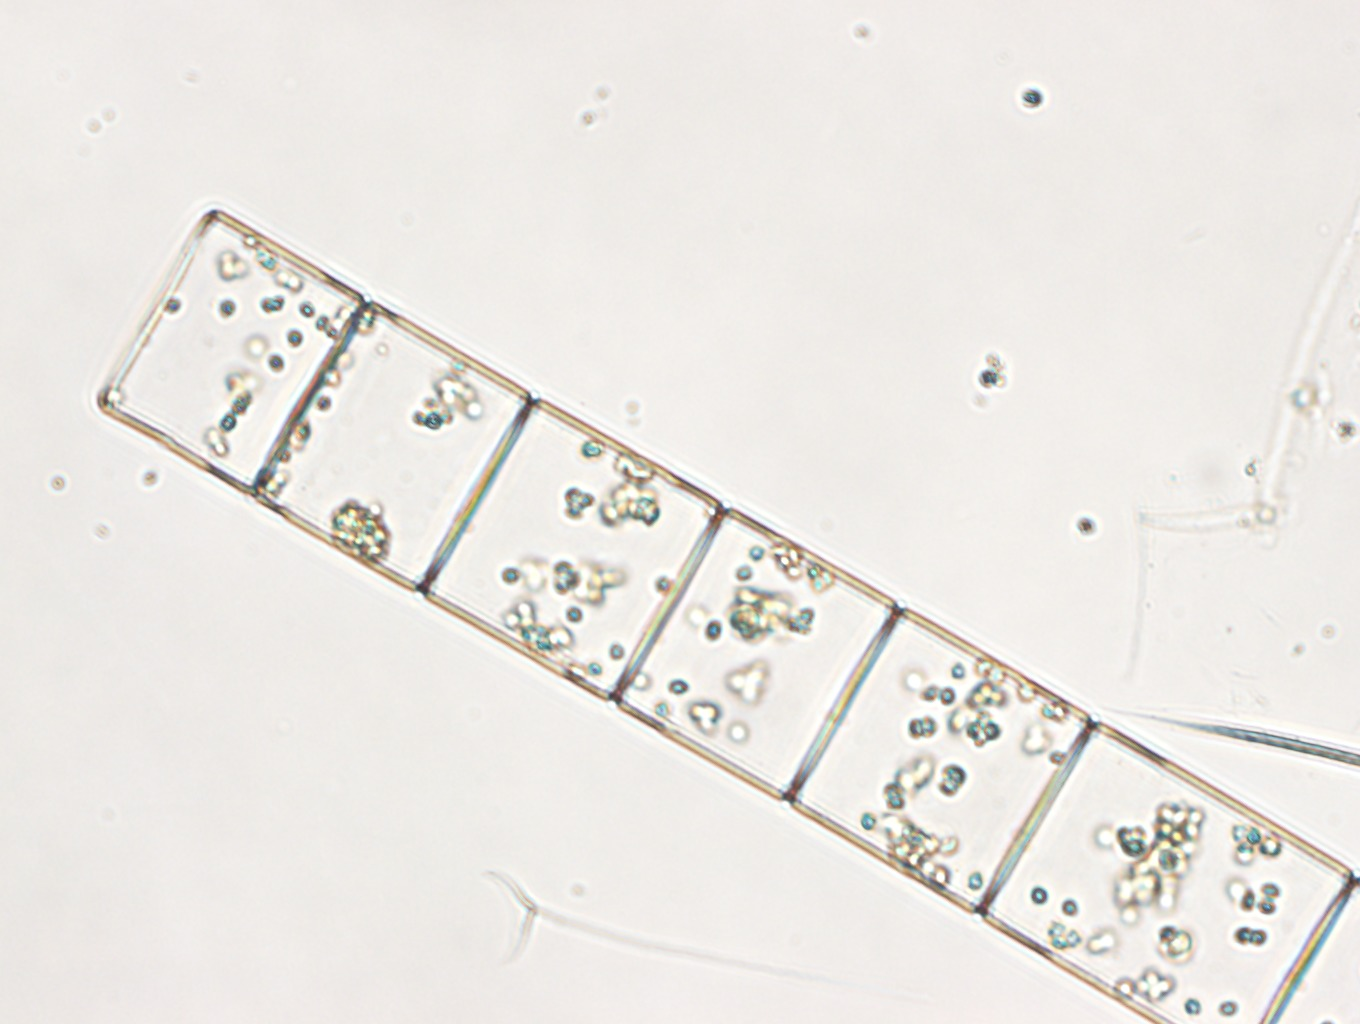guinardia flaccida: (97, 207, 1360, 1024)
